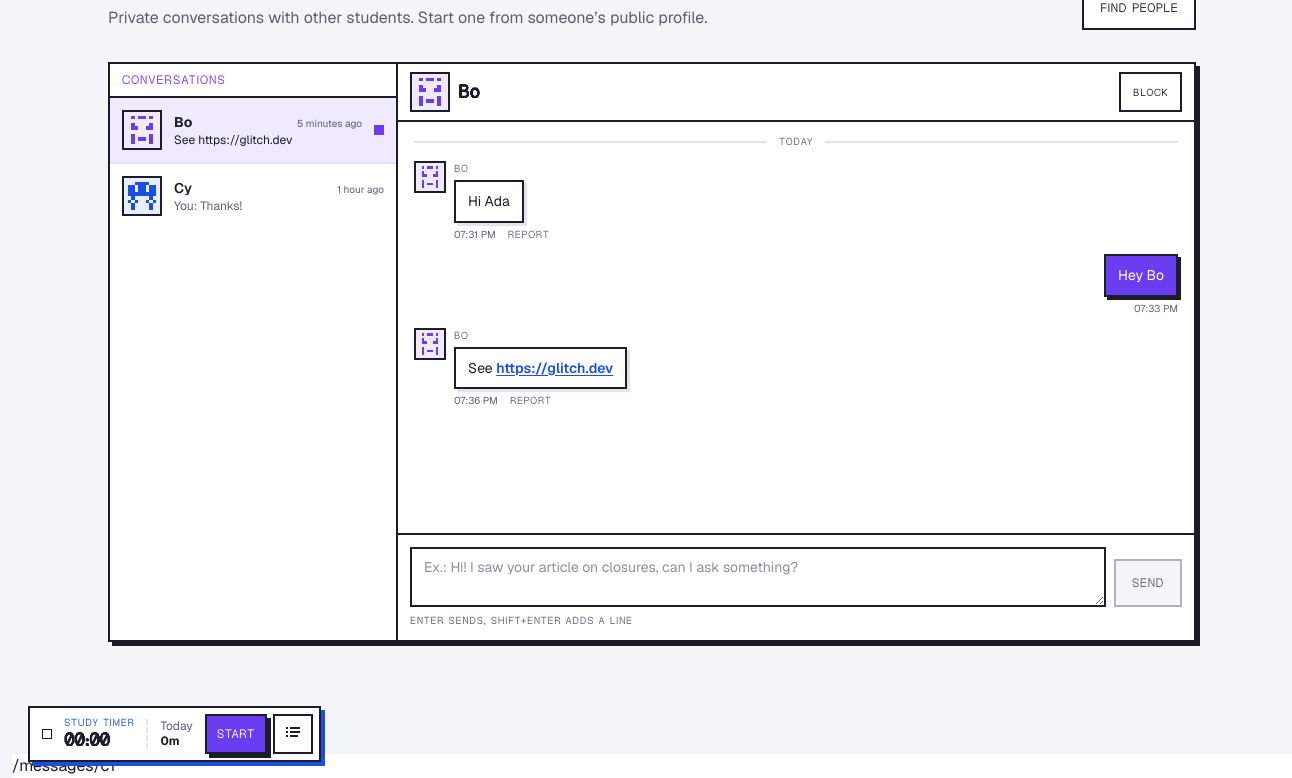
Test: does not announce my own messages
(page scrolled)
Type "Mine" into the text box named "Message to Bo" at (758, 577), box top-left (410, 547), bottom-right (1106, 607)
Then press Enter
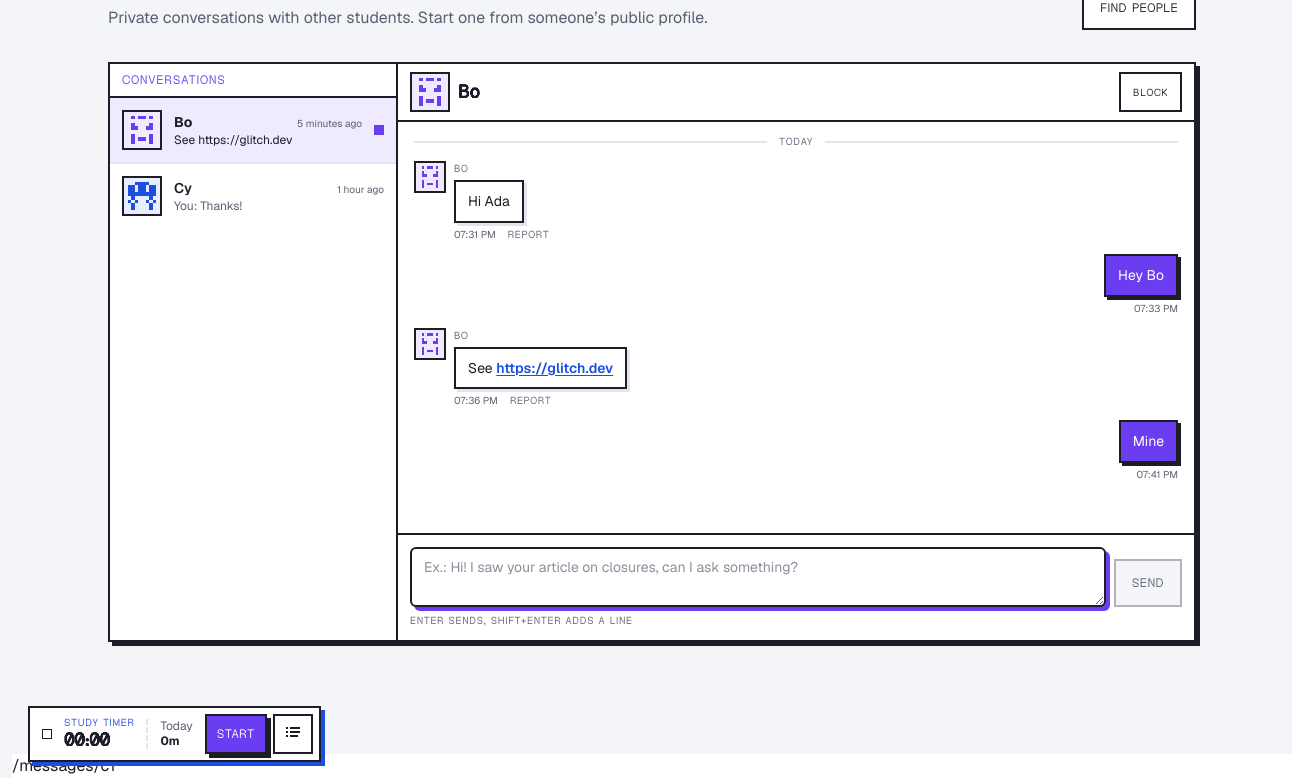
Now the text "Mine" is shown, box top-left (1133, 432), bottom-right (1164, 450)
